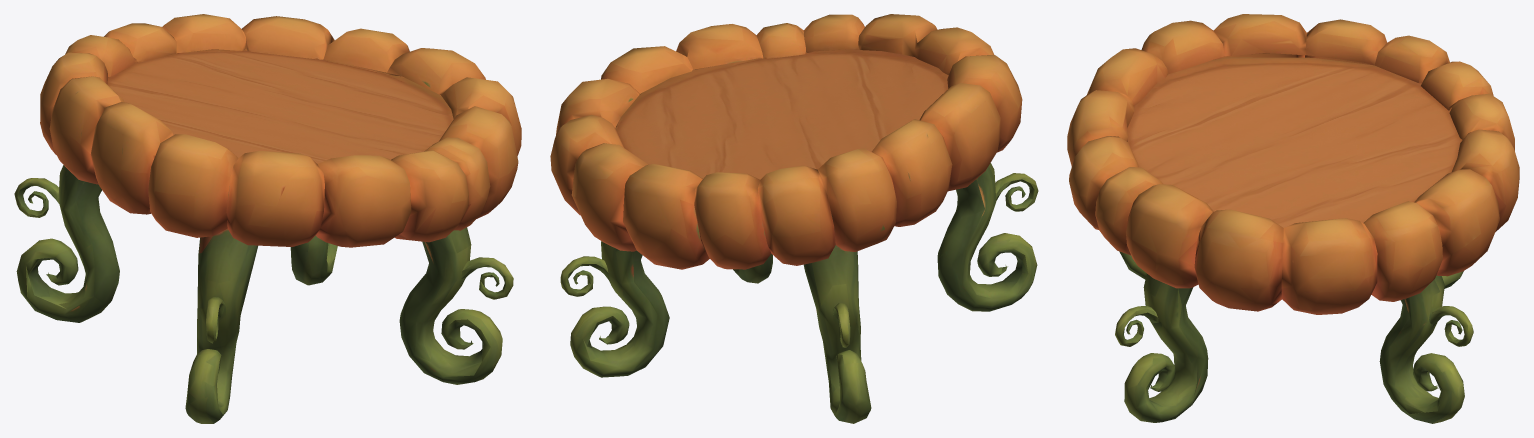
Rendered from S1_PumpkinTable_LOD2.fbx.
3 renders of one model, left to right at view 1: azimuth 30°, elevation 25°; view 2: azimuth 150°, elevation 25°; view 3: azimuth 270°, elevation 25°, orthographic. The views are drawn at different scales.
Parts seen in each view (by area): view 1: S1_PumpkinTable_LOD2; view 2: S1_PumpkinTable_LOD2; view 3: S1_PumpkinTable_LOD2.
Boxes of the visible parts, x1=… form: S1_PumpkinTable_LOD2: x1=14, y1=14, x2=521, y2=423; S1_PumpkinTable_LOD2: x1=550, y1=14, x2=1038, y2=423; S1_PumpkinTable_LOD2: x1=1067, y1=14, x2=1519, y2=423.
Bounding box in the file's own units: 1.07 × 0.7389 × 1.09.
Materials: 1 (1 with a texture image).
